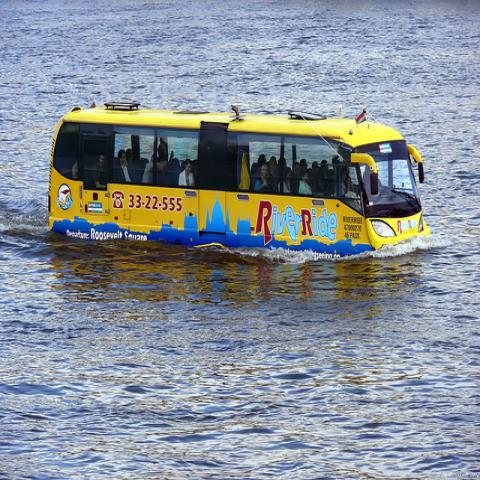bus: (49, 104, 433, 256)
